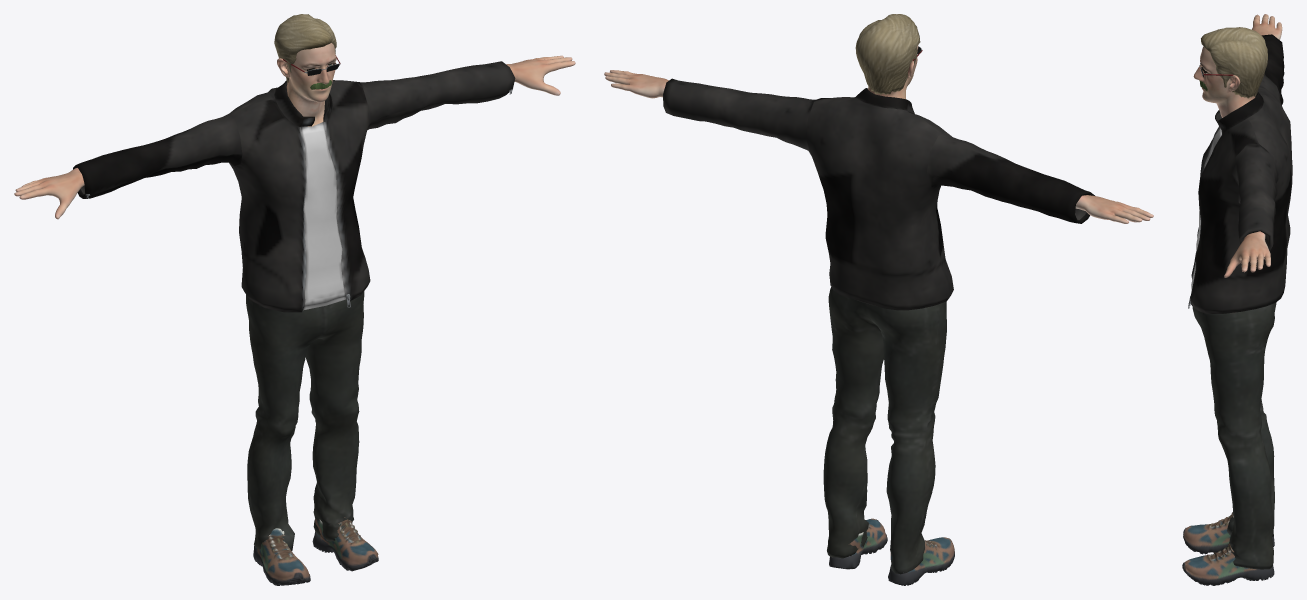
File: MAN5.obj
The picture shows the model from 3 angles, left to right: view 1: azimuth 30°, elevation 25°; view 2: azimuth 150°, elevation 25°; view 3: azimuth 270°, elevation 25°; orthographic projection. The views are drawn at different scales.
Parts seen in each view (by area): view 1: Tops, Bottoms, Body, Shoes, Hair; view 2: Tops, Bottoms, Hair, Body, Shoes; view 3: Tops, Bottoms, Body, Shoes, Hair.
Part boxes in pixels (left/top/right/bottom): Tops: left=73, top=61, right=515, bottom=312; Bottoms: left=246, top=291, right=364, bottom=550; Body: left=14, top=43, right=575, bottom=219; Shoes: left=253, top=517, right=378, bottom=585; Hair: left=274, top=14, right=336, bottom=83; Tops: left=663, top=78, right=1094, bottom=310; Bottoms: left=823, top=287, right=946, bottom=574; Hair: left=855, top=14, right=920, bottom=94; Body: left=604, top=45, right=1153, bottom=223; Shoes: left=829, top=518, right=954, bottom=585; Tops: left=1188, top=34, right=1292, bottom=313; Bottoms: left=1192, top=302, right=1276, bottom=569; Body: left=1193, top=14, right=1282, bottom=277; Shoes: left=1182, top=512, right=1274, bottom=585; Hair: left=1201, top=27, right=1267, bottom=98.
Size of the model in its own units: 195 by 184 by 34.52.
Materials: 1 (1 with a texture image).
